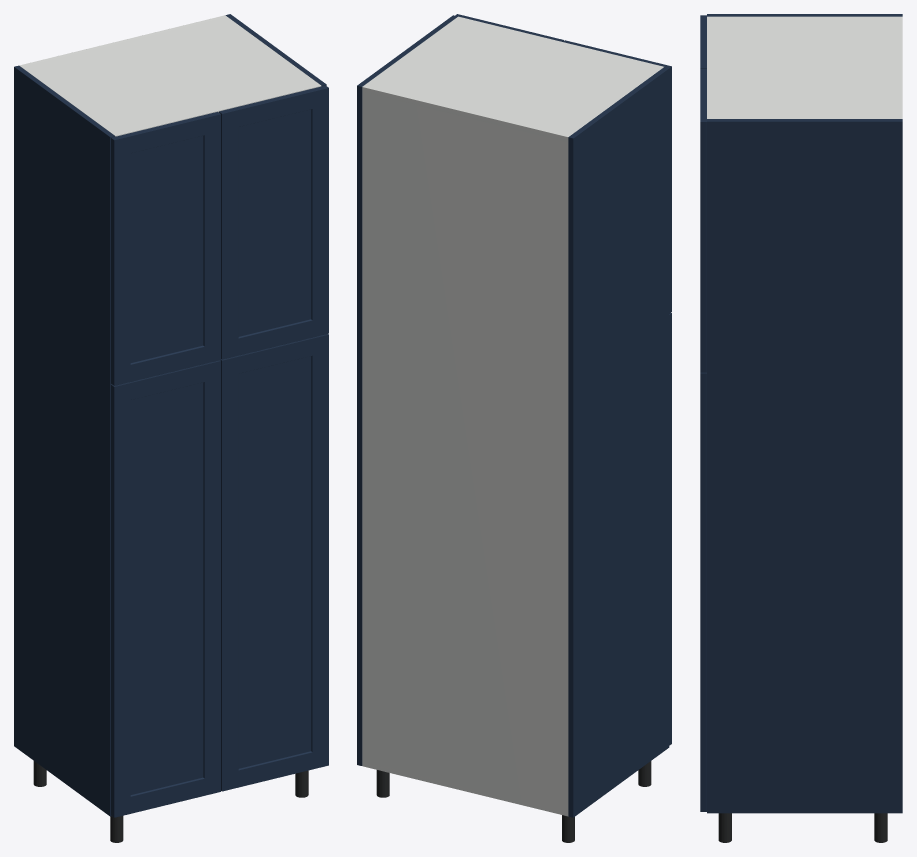
File: oppein-pb-bss-pc3090.glb
3 renders of one model, left to right at view 1: azimuth 30°, elevation 25°; view 2: azimuth 150°, elevation 25°; view 3: azimuth 270°, elevation 25°, orthographic.
Visible parts, largest first — view 1: Cabinet side, Door, Door.001, Door.002, Door.003, Cabinet top; view 2: Cabinet back, Cabinet side, Cabinet top, Cabinet side.001, Door, Door.002; view 3: Cabinet side.001, Cabinet top, Door.001, Door.003, Cabinet side, Adjustable foot.002, Adjustable foot.003, Cabinet back.
Boxes of the visible parts, x1=… form: Cabinet side: x1=14, y1=65, x2=115, y2=816; Door: x1=111, y1=360, x2=220, y2=817; Door.001: x1=220, y1=334, x2=328, y2=791; Door.002: x1=111, y1=112, x2=220, y2=385; Door.003: x1=219, y1=85, x2=328, y2=359; Cabinet top: x1=21, y1=16, x2=321, y2=136; Cabinet back: x1=362, y1=85, x2=569, y2=816; Cabinet side: x1=568, y1=67, x2=669, y2=817; Cabinet top: x1=362, y1=16, x2=663, y2=141; Cabinet side.001: x1=357, y1=15, x2=457, y2=765; Door: x1=669, y1=313, x2=671, y2=745; Door.002: x1=563, y1=40, x2=671, y2=313; Cabinet side.001: x1=707, y1=119, x2=902, y2=813; Cabinet top: x1=707, y1=16, x2=898, y2=118; Door.001: x1=700, y1=372, x2=706, y2=811; Door.003: x1=700, y1=69, x2=706, y2=372; Cabinet side: x1=707, y1=14, x2=902, y2=16; Adjustable foot.002: x1=874, y1=813, x2=887, y2=842; Adjustable foot.003: x1=718, y1=813, x2=731, y2=842; Cabinet back: x1=899, y1=16, x2=902, y2=118.
Size of the model in its own units: 0.762 by 2.4 by 0.6064.
